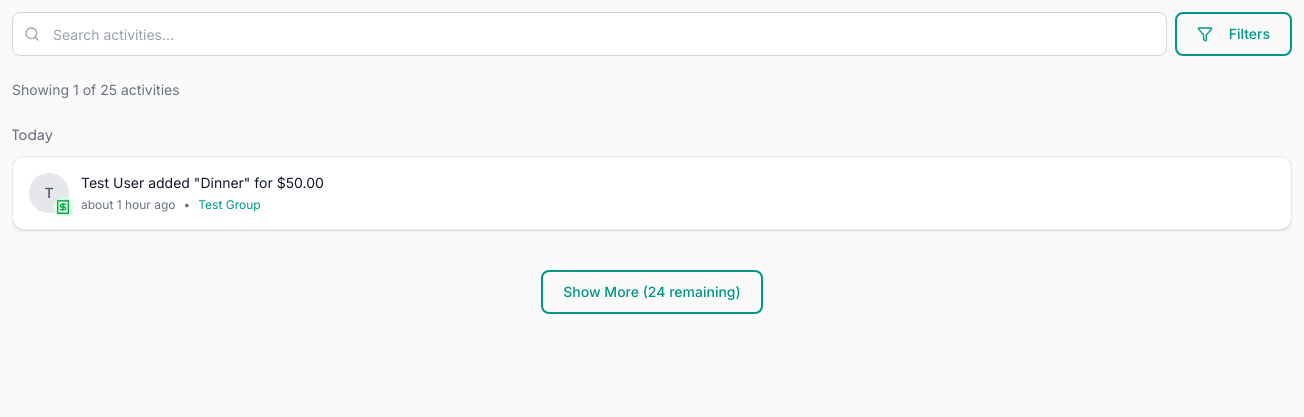
Test: ActivityPageClient › updates remaining count when loading more
What coordinates should you click on to do the following:
click the button "Show More (24 remaining)"
I would click on:
 (652, 292)
Its box is [541,270,763,314].
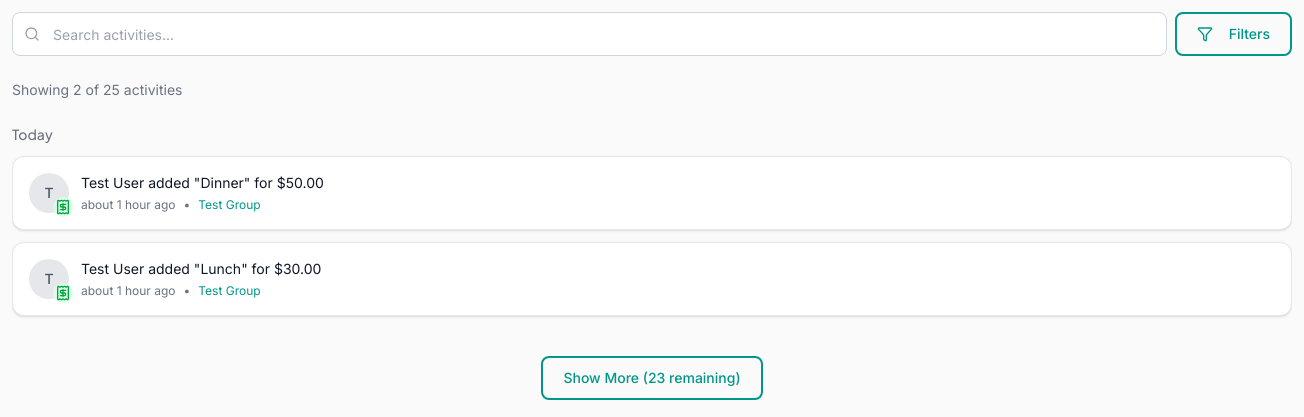
Check: the button "Show More (23 remaining)" is shown, box [541,356,763,400]
